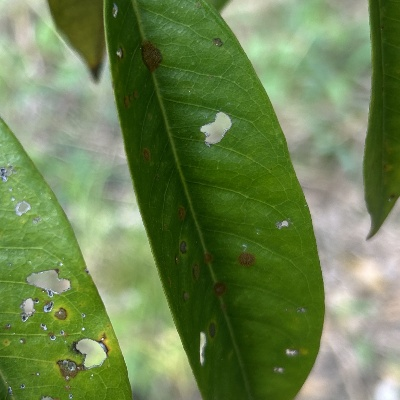Leaf_Algal: (100, 0, 327, 400)
